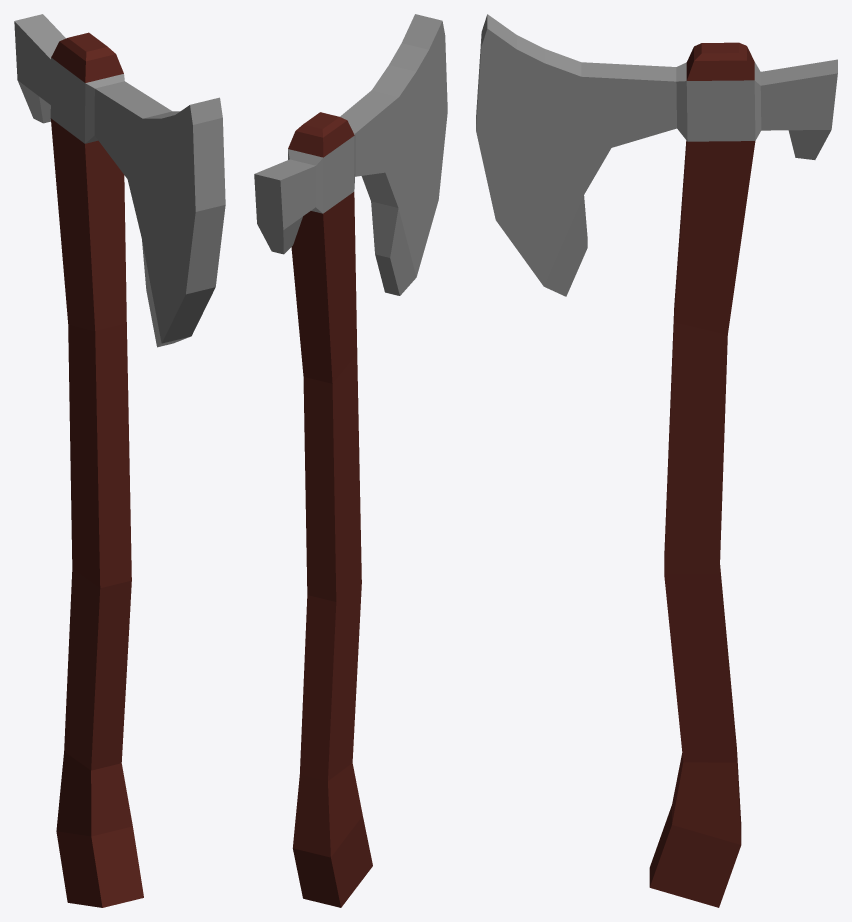
The model's file is AXE.fbx.
3 renders of one model, left to right at view 1: azimuth 30°, elevation 25°; view 2: azimuth 150°, elevation 25°; view 3: azimuth 270°, elevation 25°, orthographic. The views are drawn at different scales.
Visible parts, largest first — view 1: Cube; view 2: Cube; view 3: Cube.
Boxes of the visible parts, x1=… form: Cube: x1=14, y1=14, x2=225, y2=907; Cube: x1=254, y1=14, x2=447, y2=907; Cube: x1=476, y1=14, x2=837, y2=907.
Size of the model in its own units: 21.14 by 428 by 160.
